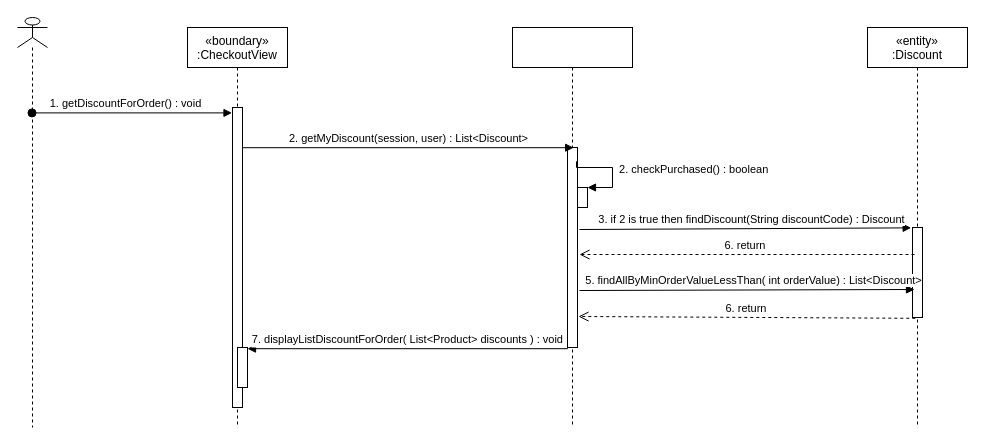
Some shapes in this 985 by 445 pixel diagram are drawn without their labels. The shapes that lost their labels are listed below. From the top down, each one's box as (x1, y1, x2, y2) in pixels, then its label:
(16, 16, 48, 428): Người dùng
(512, 26, 632, 428): «controller» :CheckoutController
